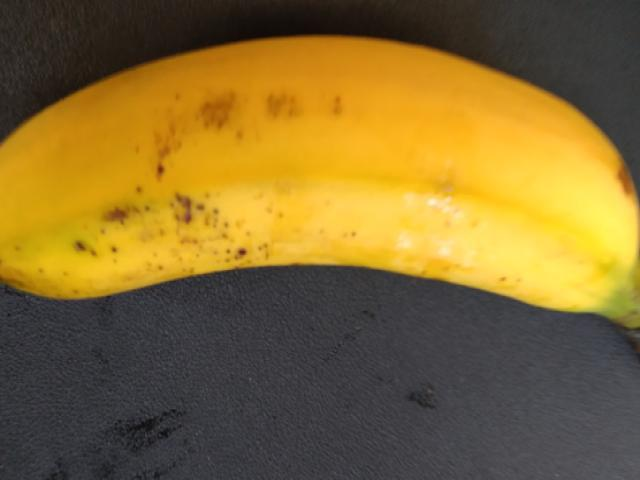ripe: (19, 20, 639, 326)
